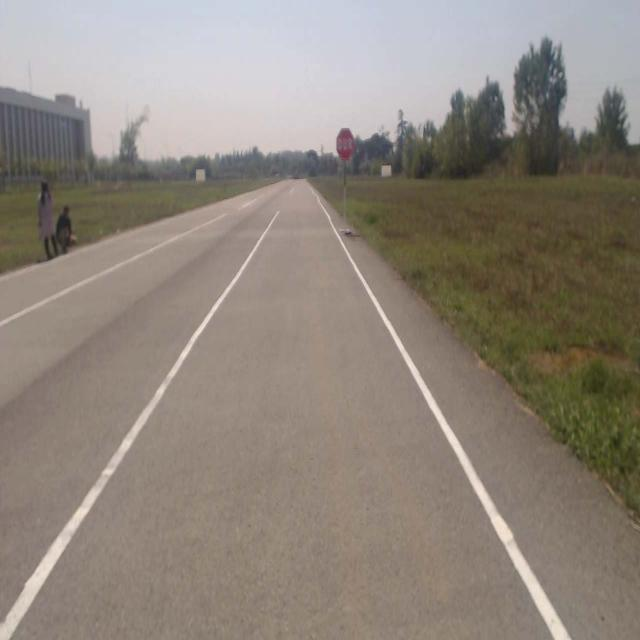dur: (334, 126, 354, 163)
